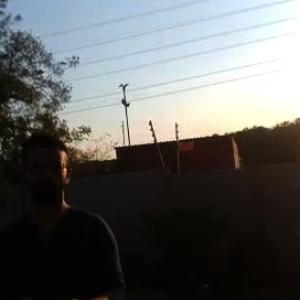follow: (1, 129, 134, 299)
